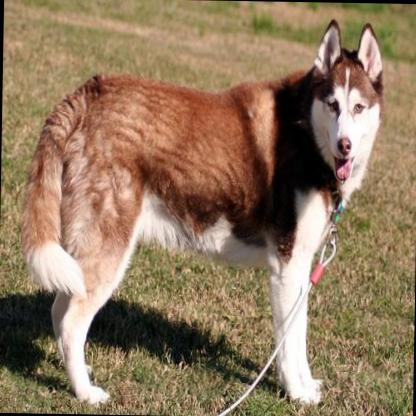Siberian_husky: (15, 13, 386, 411)
